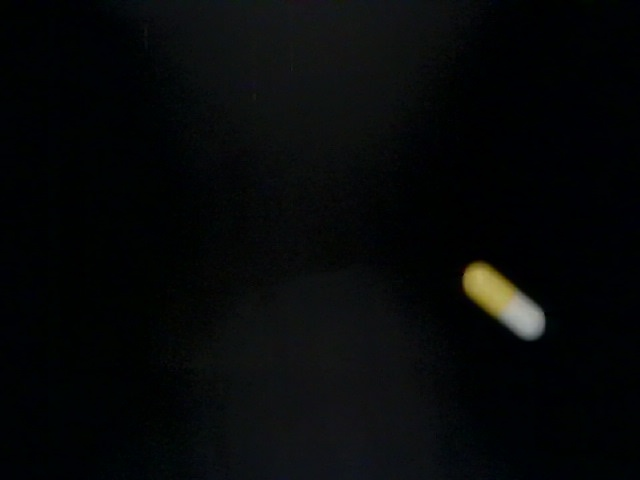YHLJ: (162, 56, 456, 164)
